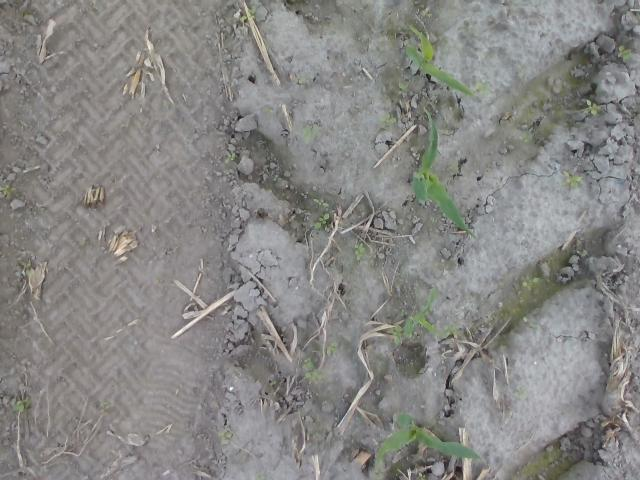Maize: (409, 108, 478, 239), (373, 411, 482, 468), (404, 24, 472, 96), (402, 287, 437, 340)
Weeds: (302, 359, 321, 382), (522, 274, 543, 290), (583, 98, 602, 115), (386, 326, 402, 346), (562, 172, 583, 186), (314, 212, 330, 229), (240, 6, 258, 21), (380, 112, 398, 126), (354, 242, 366, 260), (476, 82, 491, 96), (16, 399, 32, 412), (1, 185, 16, 198), (302, 126, 312, 144), (442, 324, 459, 334), (619, 47, 631, 60), (314, 197, 328, 207), (398, 80, 408, 94), (518, 133, 530, 144), (328, 344, 338, 352), (228, 153, 235, 161), (401, 309, 408, 317)
